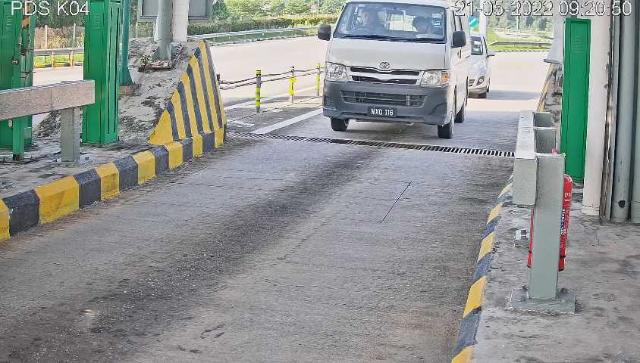License_Plate: (368, 107, 399, 121)
van: (324, 2, 470, 141)
